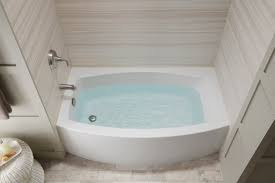bathub: (60, 55, 232, 168)
